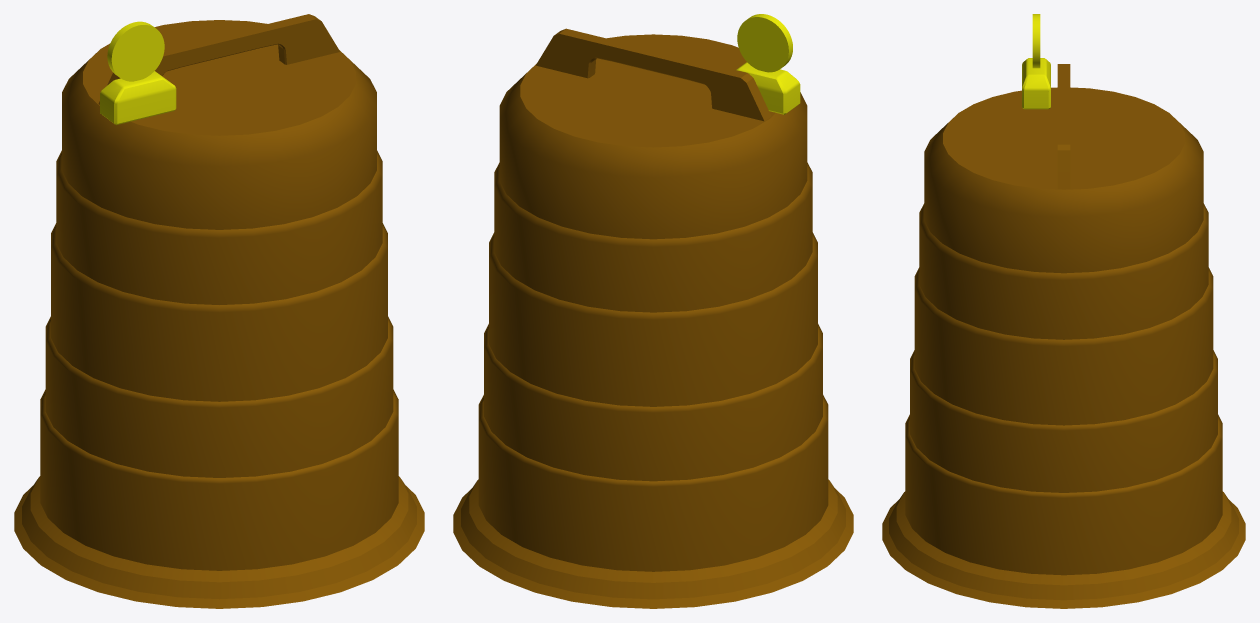
Rendered from Barricade.fbx.
3 views of the same model, side by side, from view 1: azimuth 30°, elevation 25°; view 2: azimuth 150°, elevation 25°; view 3: azimuth 270°, elevation 25° (orthographic). The views are drawn at different scales.
Parts seen in each view (by area): view 1: Barricade2, Light; view 2: Barricade2, Light; view 3: Barricade2, Light.
Boxes of the visible parts, bbox=[...] form: Barricade2: bbox=[14, 14, 424, 608]; Light: bbox=[100, 21, 176, 124]; Barricade2: bbox=[453, 28, 853, 608]; Light: bbox=[736, 14, 800, 114]; Barricade2: bbox=[882, 64, 1245, 608]; Light: bbox=[1022, 14, 1050, 109].
Bounding box in the file's own units: 15.79 × 22.51 × 15.7.
